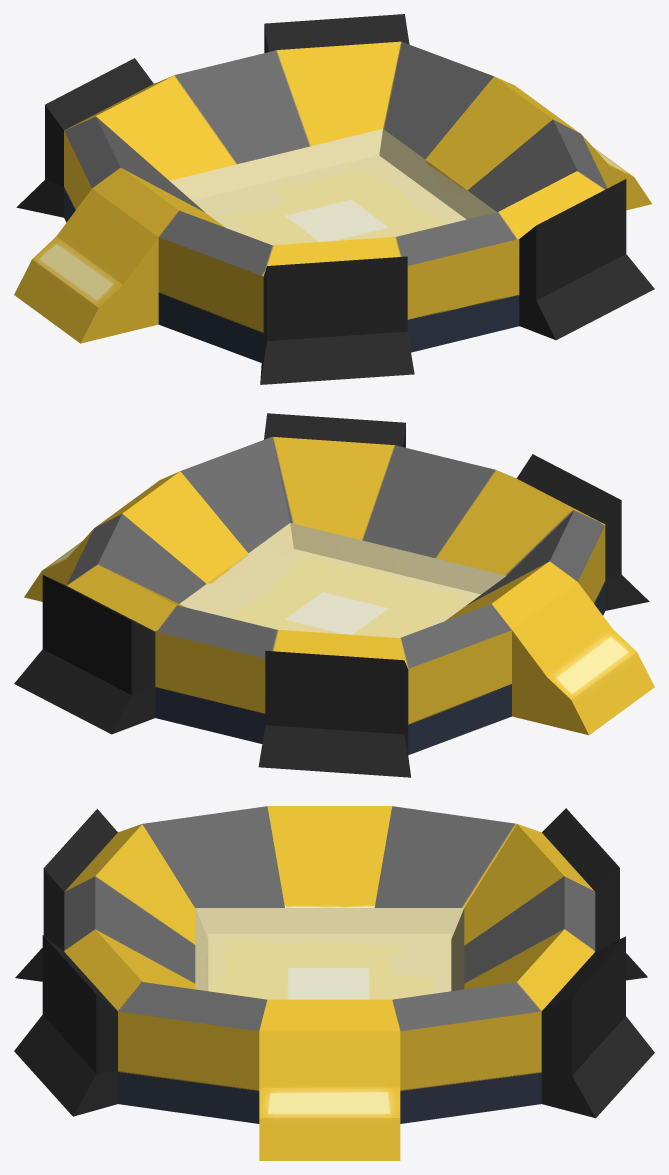
Rendered from Base da nave.fbx.
3 views of the same model, one above another, from view 1: azimuth 30°, elevation 25°; view 2: azimuth 150°, elevation 25°; view 3: azimuth 270°, elevation 25° (orthographic). The views are drawn at different scales.
Parts seen in each view (by area): view 1: Cube; view 2: Cube; view 3: Cube.
Boxes of the visible parts, x1=… form: Cube: x1=14, y1=14, x2=654, y2=384; Cube: x1=14, y1=413, x2=654, y2=777; Cube: x1=14, y1=806, x2=654, y2=1160.
Bounding box in the file's own units: 331 × 58.89 × 303.
Materials: 1 (1 with a texture image).
